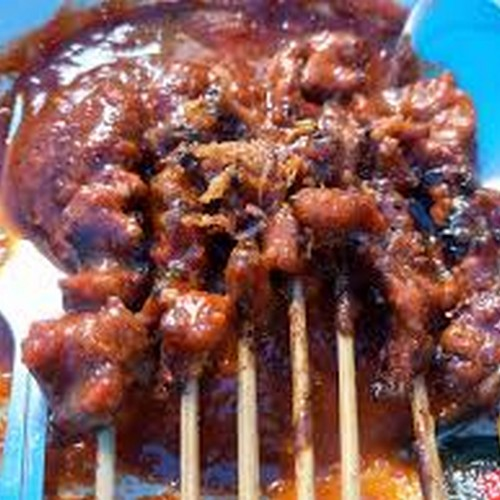sate plecing: (33, 55, 489, 420)
